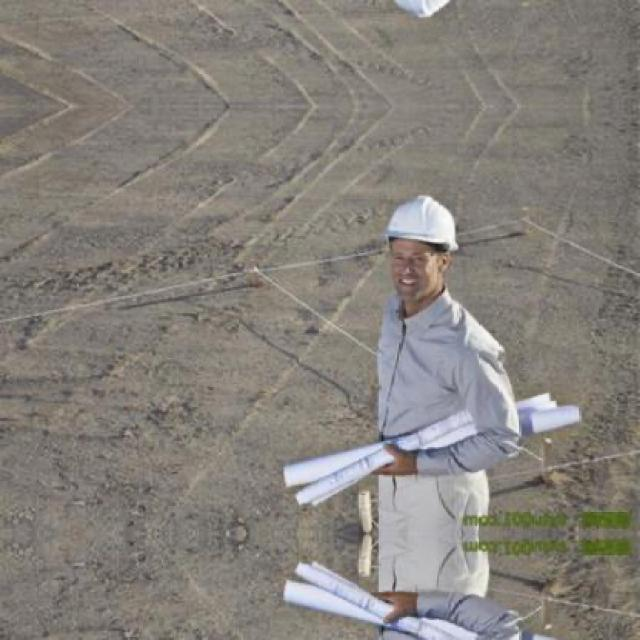con casco: (361, 184, 476, 334)
